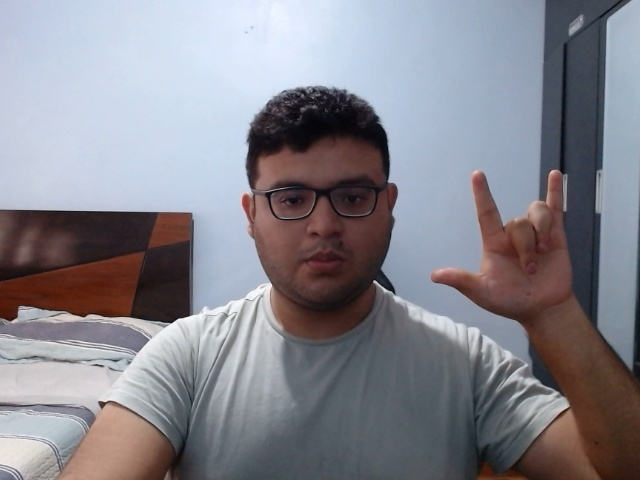I love you: (426, 164, 587, 326)
